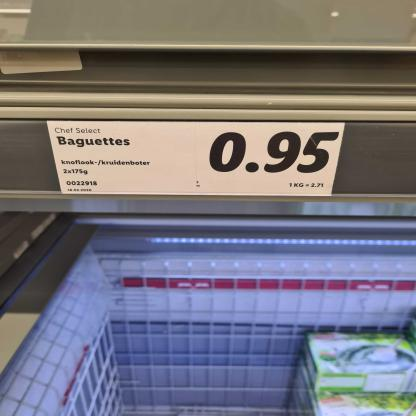prtg: (48, 122, 346, 197)
